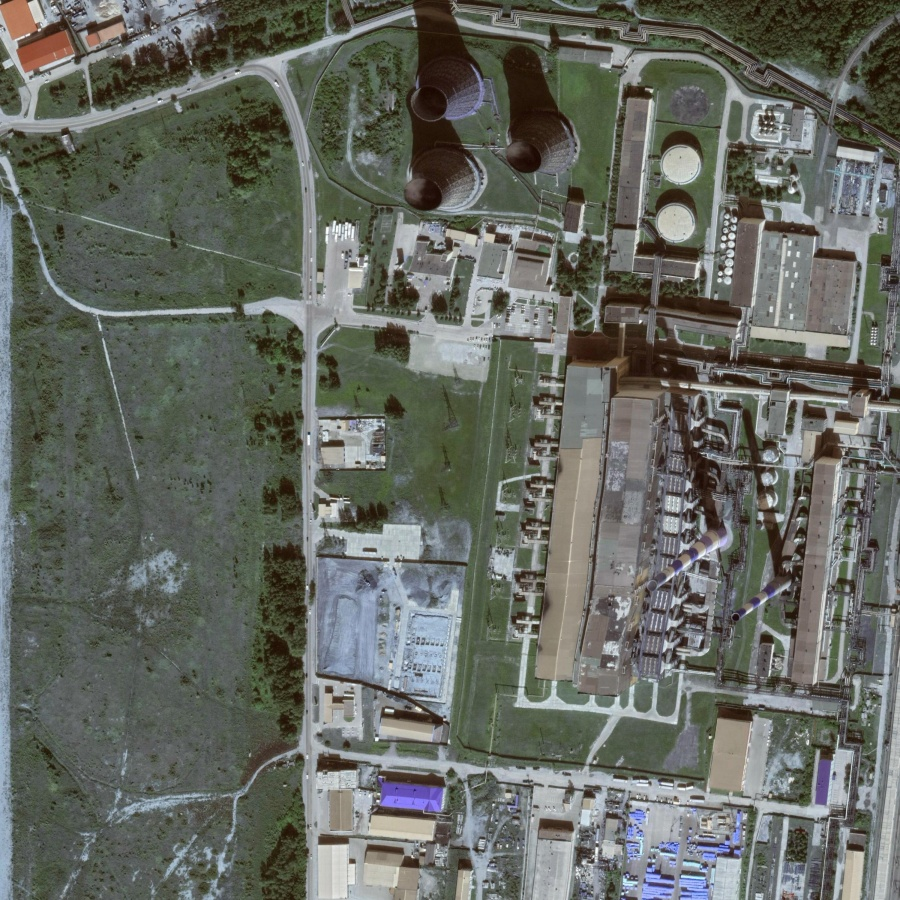PowerPlant: (616, 324, 870, 652)
